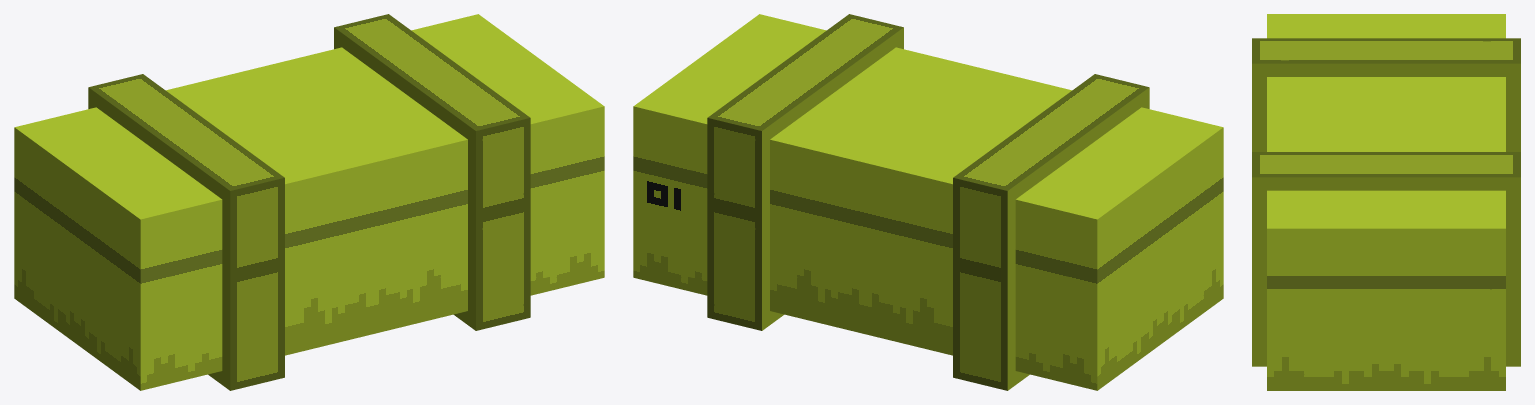
Rendered from Chest.gltf.
The picture shows the model from 3 angles, left to right: view 1: azimuth 30°, elevation 25°; view 2: azimuth 150°, elevation 25°; view 3: azimuth 270°, elevation 25°; orthographic projection. The views are drawn at different scales.
Parts seen in each view (by area): view 1: TOP, DOWN; view 2: TOP, DOWN; view 3: TOP, DOWN.
Boxes of the visible parts, x1,y1,x2,y2 form: TOP: [14, 14, 604, 276]; DOWN: [14, 163, 604, 390]; TOP: [633, 14, 1223, 276]; DOWN: [633, 163, 1223, 390]; TOP: [1252, 14, 1520, 282]; DOWN: [1252, 144, 1520, 390].
Bounding box in the file's own units: 2.12 × 0.875 × 1.12.
2 materials, 2 textured.
